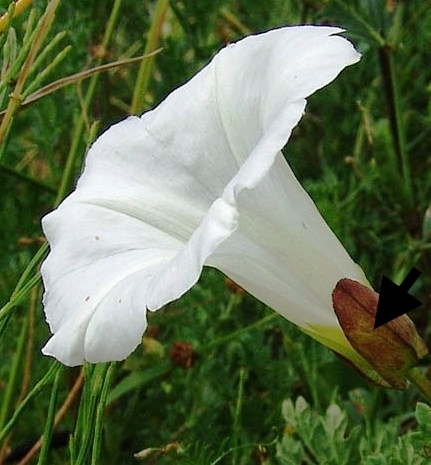haagwinde: (31, 16, 423, 406)
